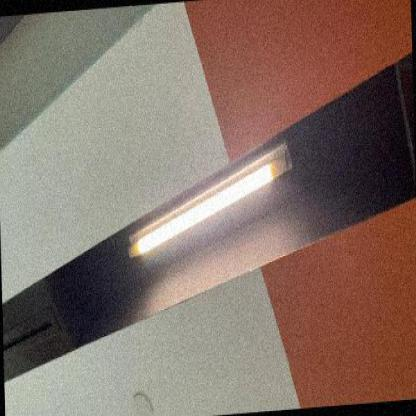light_on: (118, 127, 308, 262)
